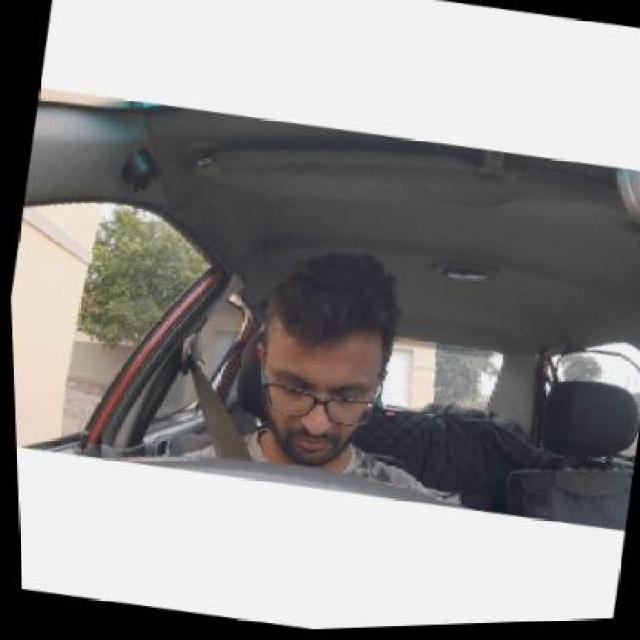drowsy: (249, 269, 404, 466)
